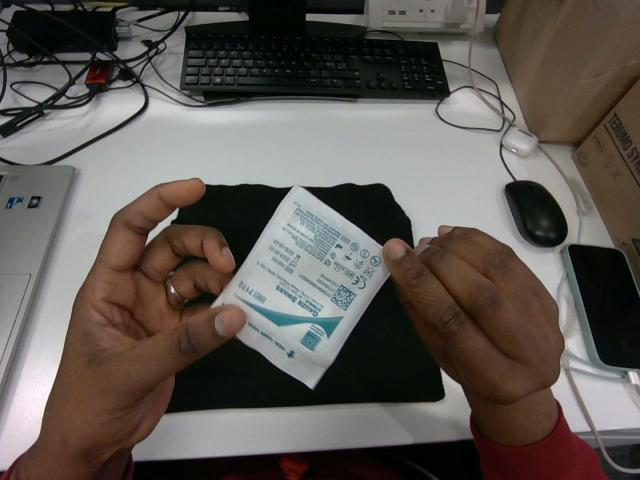gauze: (213, 186, 388, 387)
